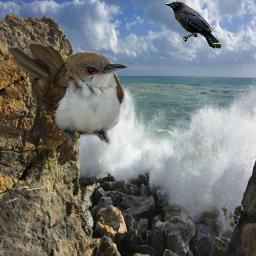Crow: (165, 1, 222, 49)
Cuckoo: (7, 42, 129, 150)
